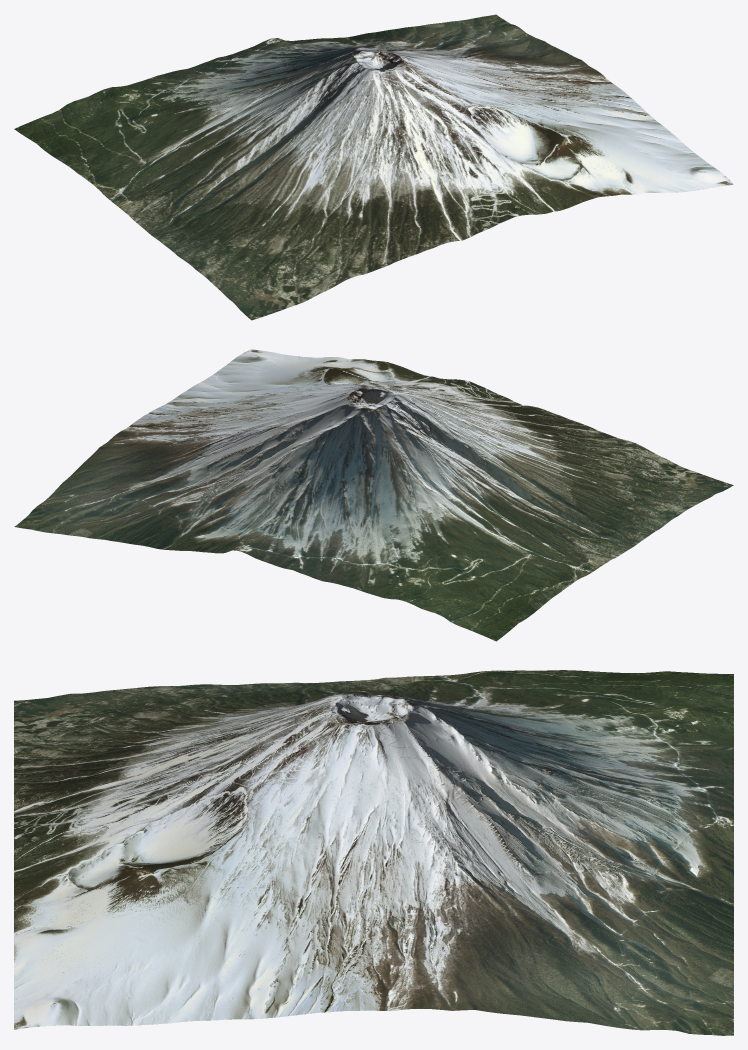
Rendered from map_fuji.glb.
The picture shows the model from 3 angles, top to bottom: view 1: azimuth 30°, elevation 25°; view 2: azimuth 150°, elevation 25°; view 3: azimuth 270°, elevation 25°; orthographic projection. The views are drawn at different scales.
Visible parts, largest first — view 1: _gltfNode_0; view 2: _gltfNode_0; view 3: _gltfNode_0.
Part boxes in pixels (x1,y1,x2,y2): _gltfNode_0: (14,14,733,320); _gltfNode_0: (14,349,733,641); _gltfNode_0: (14,670,733,1035).
Size of the model in its own units: 10395 by 2361 by 8867.
1 material, 1 textured.
